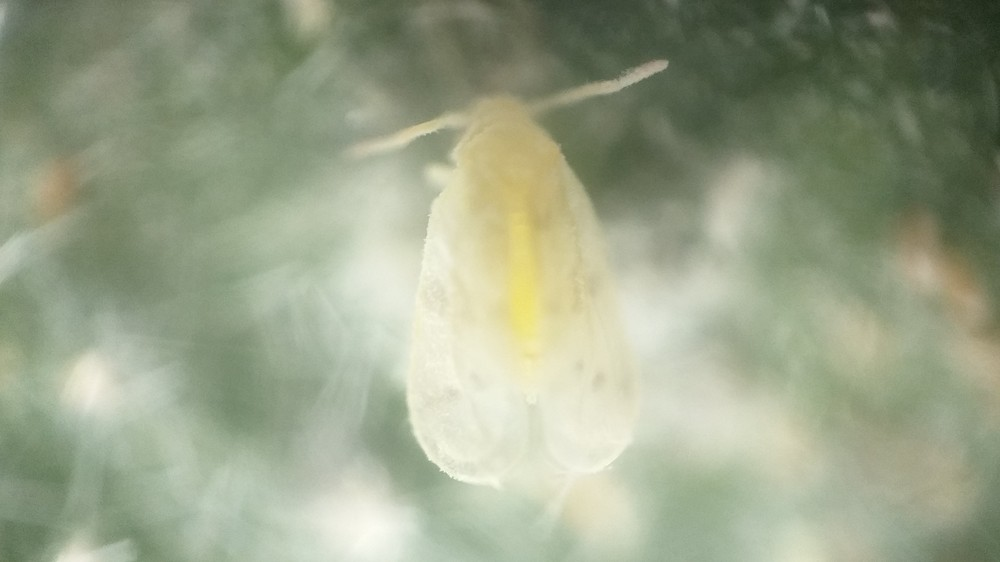Mosca Blanca: (331, 58, 717, 503)
